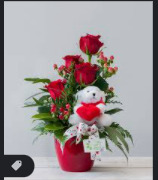RedRose: (78, 31, 105, 57), (74, 62, 101, 87)
